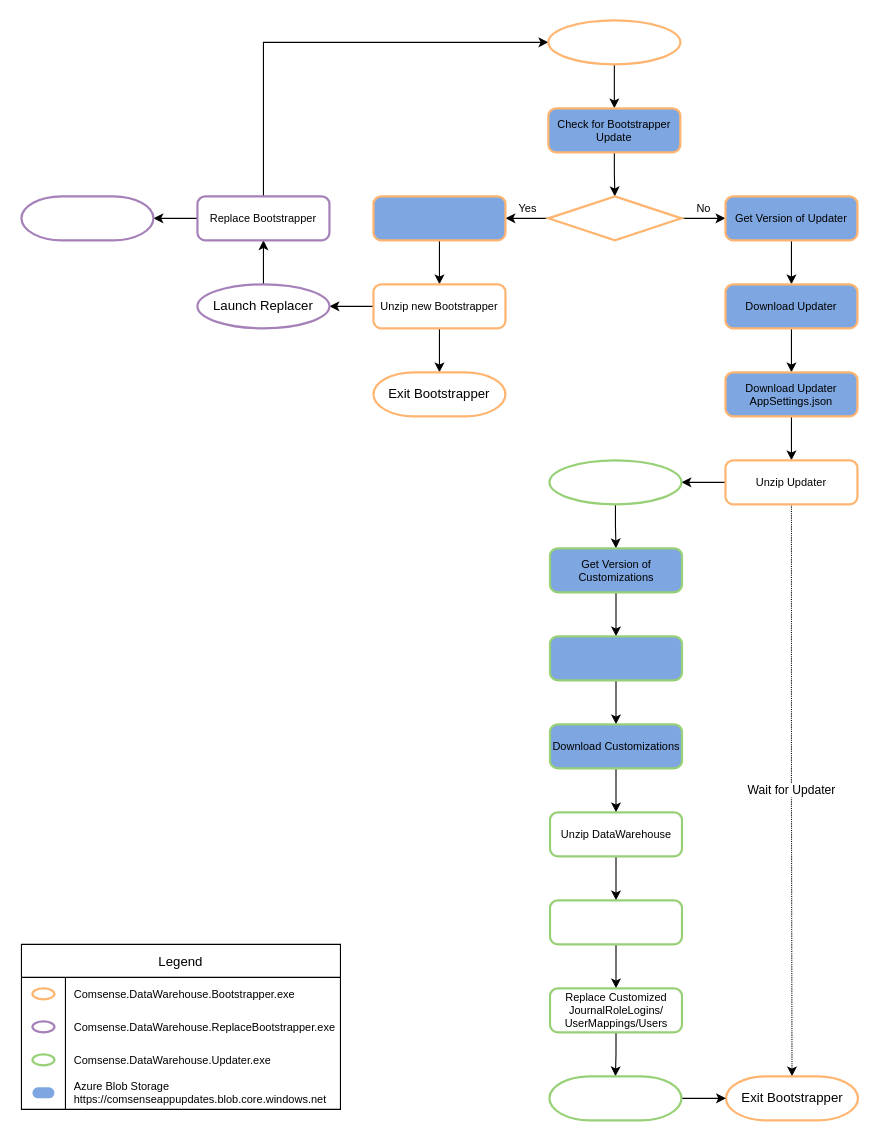
This 878x1140 diagram has some shape labels left out. The shapes that lost their labels are listed below. From the top down, each one's centre as x and y in pixels, then its label:
At (614,42): "Launch Bootstrapper".
At (87,218): "Exit Replacer".
At (439,218): "Download new Bootstrapper".
At (614,218): "Update Required?".
At (615,482): "Launch Updater".
At (615,658): "Download DataWarehouse".
At (615,922): "Unzip Customizations".
At (615,1098): "Exit Updater".
